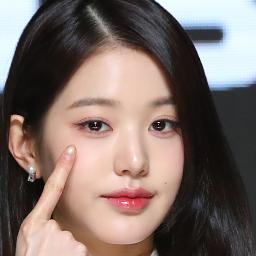face: (54, 55, 184, 245)
